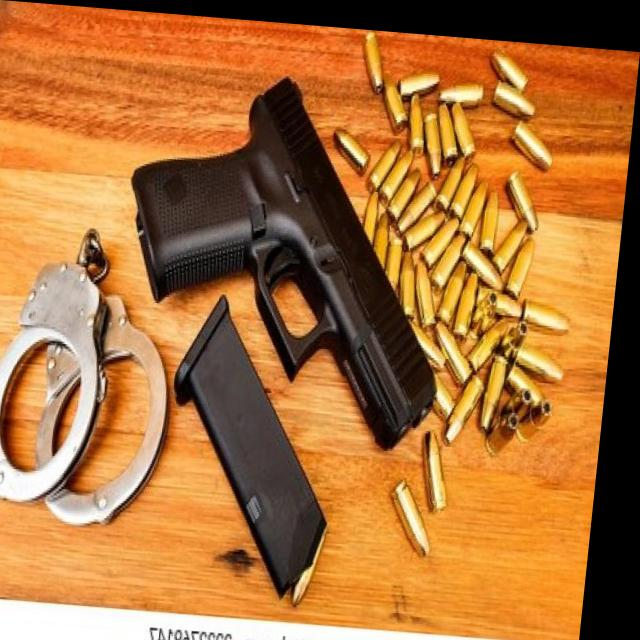handgun: (101, 51, 474, 476)
